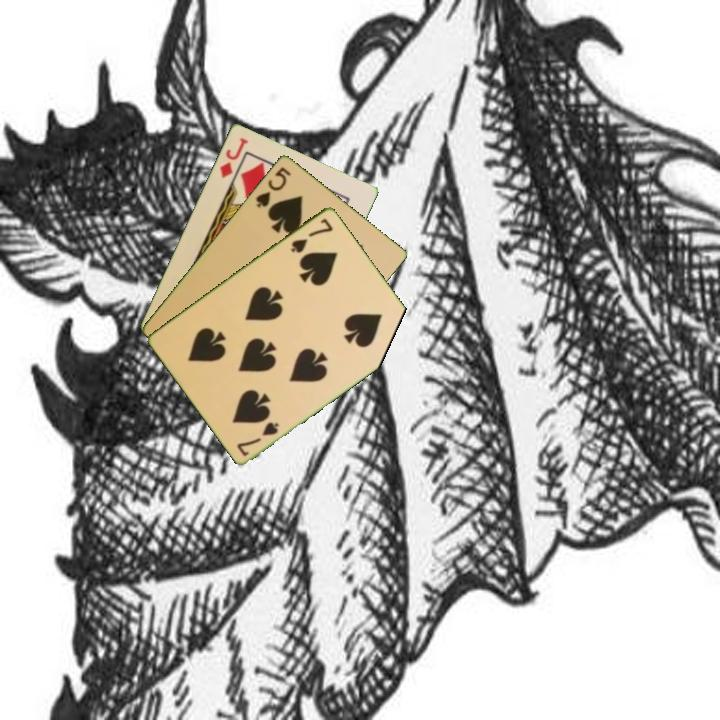5s: (252, 163, 294, 210)
7s: (287, 214, 336, 256), (233, 418, 282, 459)
Jd: (216, 133, 251, 181)
